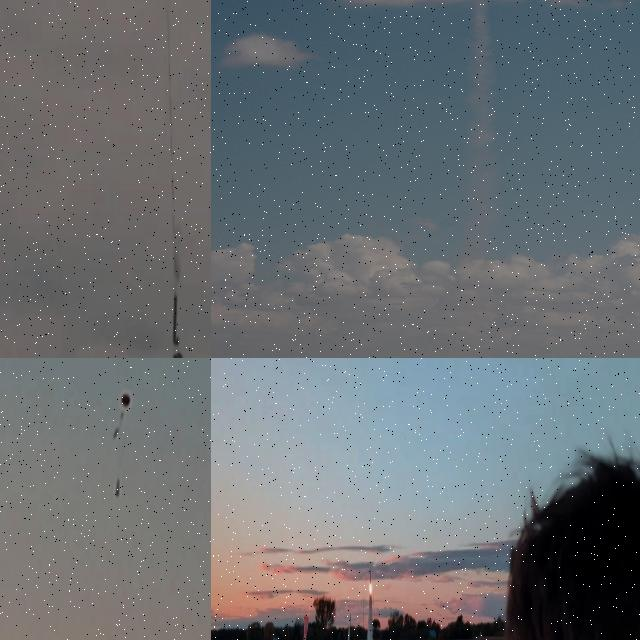Rocket: (172, 292, 180, 346), (115, 478, 120, 497), (369, 567, 372, 585)
